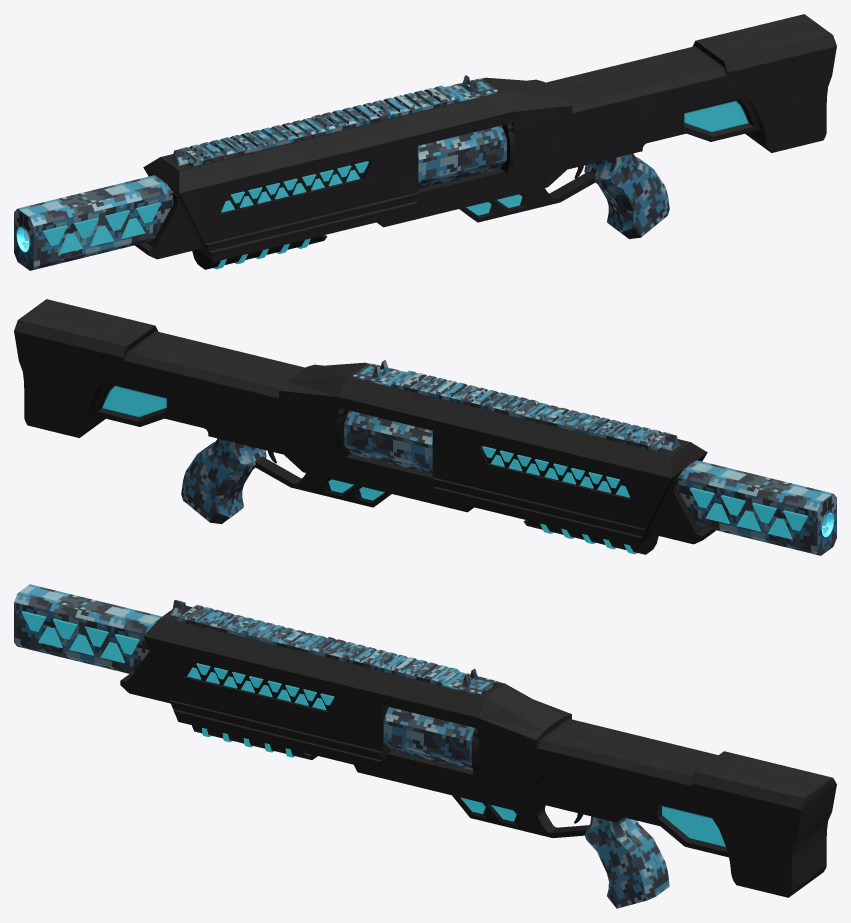
The model's file is shotgun1.fbx.
3 views of the same model, one above another, from view 1: azimuth 30°, elevation 25°; view 2: azimuth 150°, elevation 25°; view 3: azimuth 330°, elevation 25° (orthographic).
Parts seen in each view (by area): view 1: Shotgun1; view 2: Shotgun1; view 3: Shotgun1.
Boxes of the visible parts, <box> form: Shotgun1: <box>14,14,836,270</box>; Shotgun1: <box>14,299,836,555</box>; Shotgun1: <box>14,584,836,908</box>.
Size of the model in its own units: 503 by 116 by 42.24.
